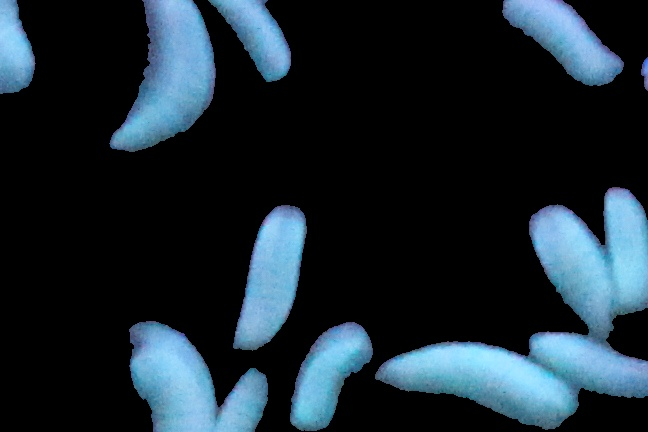larvae: (375, 336, 581, 432), (93, 1, 193, 162), (503, 1, 626, 92), (529, 202, 620, 324), (120, 317, 214, 432), (231, 204, 303, 354), (285, 323, 370, 431), (530, 324, 648, 401), (195, 1, 295, 87), (590, 176, 648, 321), (1, 1, 43, 98), (213, 370, 273, 432), (178, 1, 287, 2)
